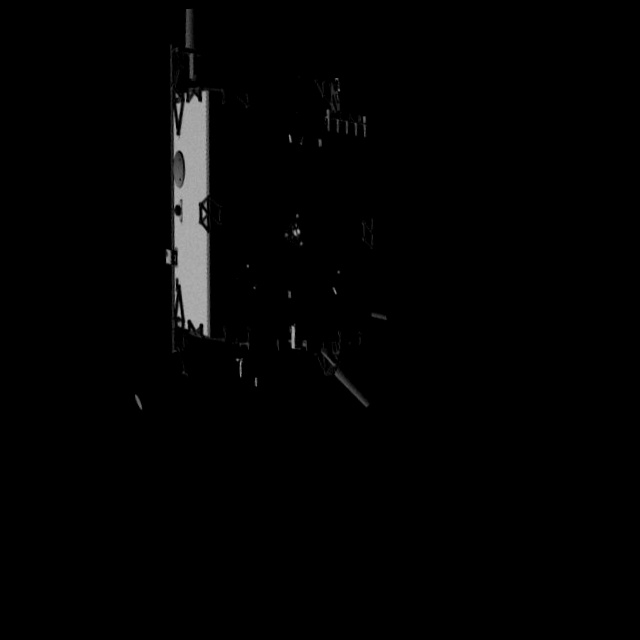medium_debris: (101, 1, 403, 431)
